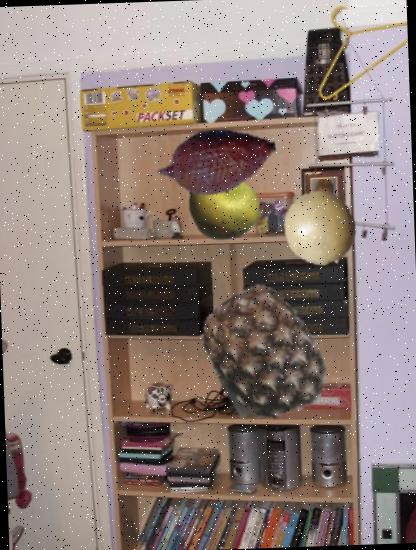Grapefruit: (281, 190, 361, 270)
Pineapple: (193, 284, 336, 428)
Pomelo: (185, 170, 261, 246)
Salak: (153, 98, 280, 224)
